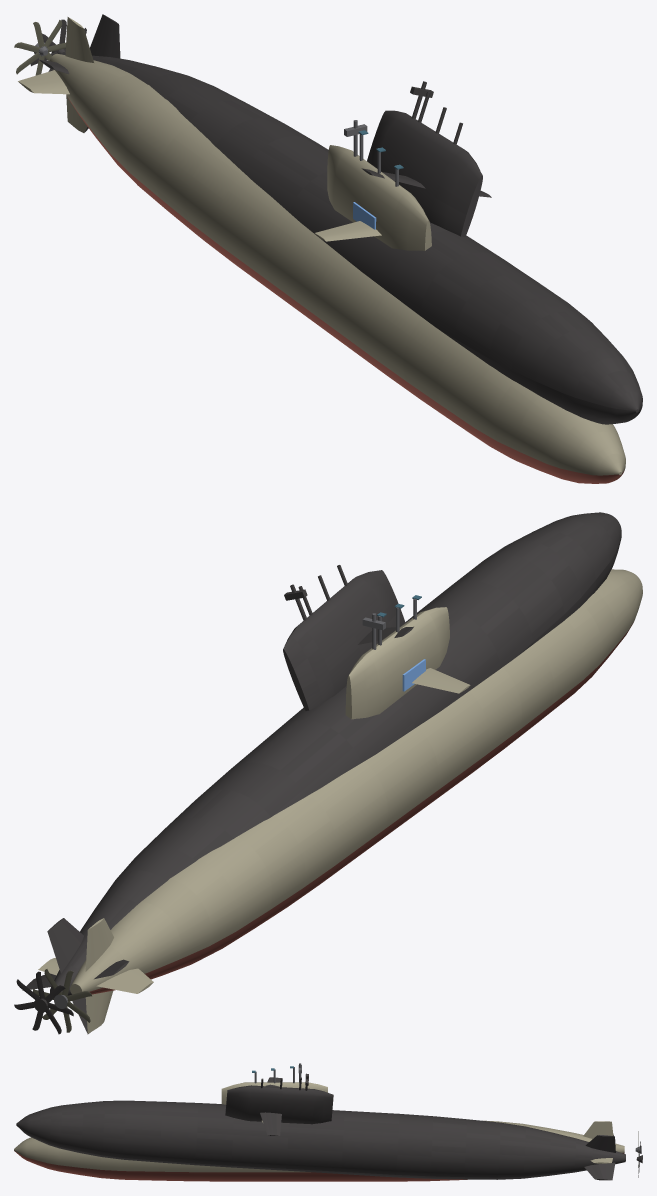
File: submarine__collins_class.glb
3 views of the same model, one above another, from view 1: azimuth 30°, elevation 25°; view 2: azimuth 150°, elevation 25°; view 3: azimuth 270°, elevation 25° (orthographic). The views are drawn at different scales.
Parts seen in each view (by area): view 1: Hull_Mesh, Wreck; view 2: Hull_Mesh, Wreck; view 3: Wreck, Hull_Mesh.
Part boxes in pixels (left/top/right/bottom): Hull_Mesh: left=14, top=17, right=625, bottom=483; Wreck: left=30, top=14, right=642, bottom=424; Hull_Mesh: left=33, top=569, right=642, bottom=1033; Wreck: left=14, top=512, right=621, bottom=1034; Wreck: left=16, top=1073, right=642, bottom=1180; Hull_Mesh: left=14, top=1066, right=641, bottom=1181.
Size of what is drawn, in the model's own units: 12.95 by 16.68 by 76.93.
